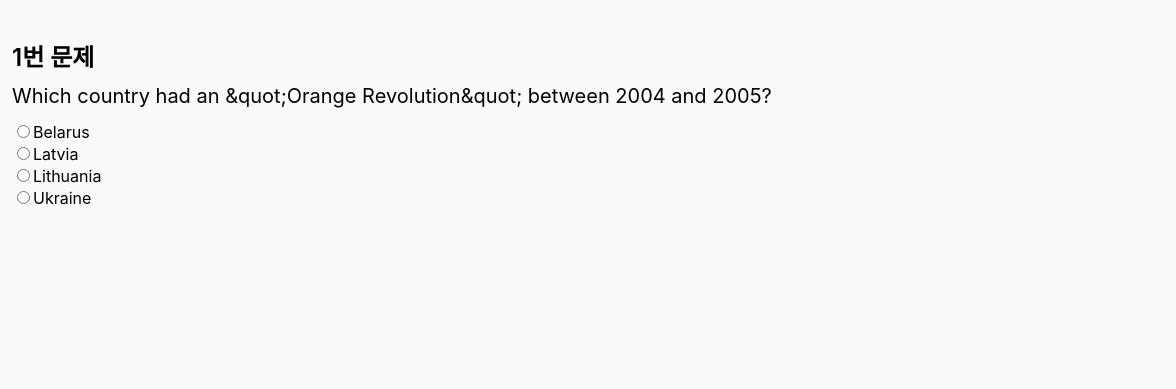
Quiz 렌더링 테스트 › 문제를 선택하면 '다음 버튼'이 보인다.
The width and height of the screenshot is (1176, 389).
Click the radio button labelled "Belarus". click: (24, 132)
box: [17,125,30,138]
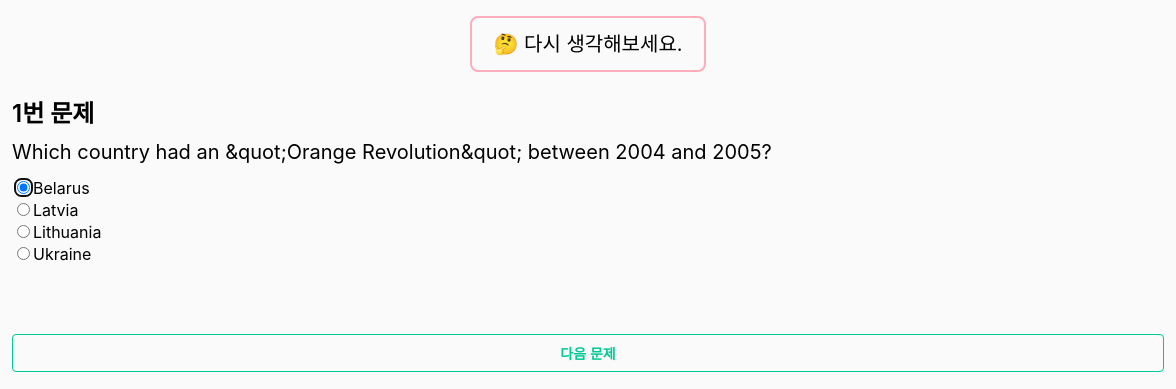
Now the button is shown, box [12,334,1164,372]
